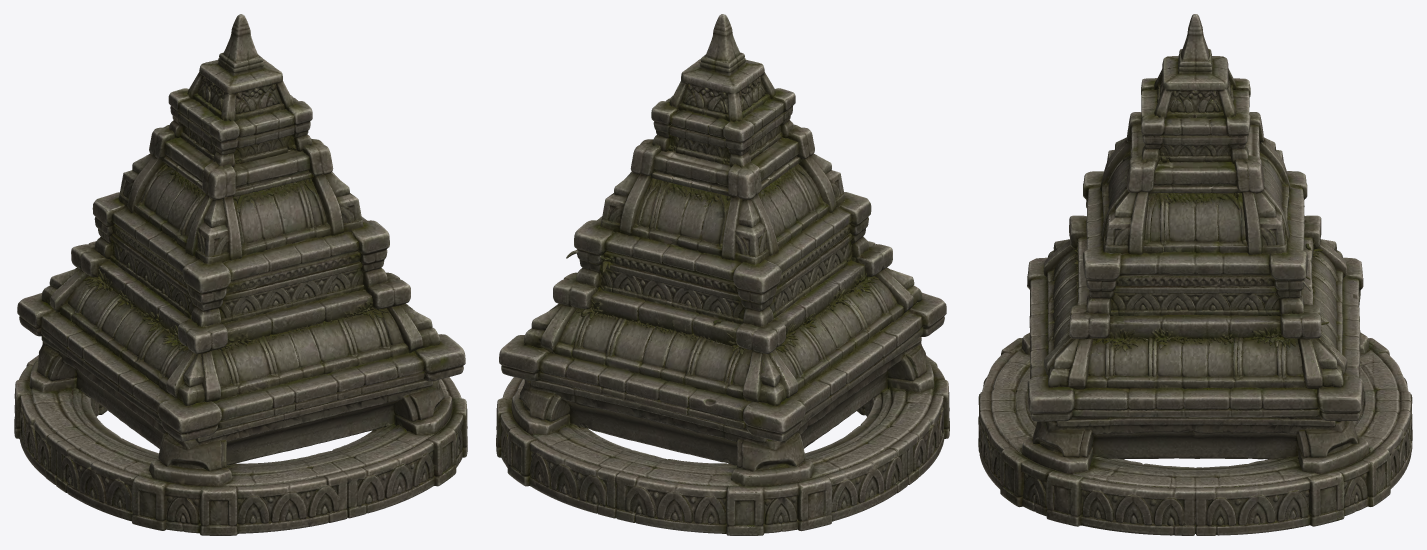
The model's file is Meshy_AI_model.glb.
The picture shows the model from 3 angles, left to right: view 1: azimuth 30°, elevation 25°; view 2: azimuth 150°, elevation 25°; view 3: azimuth 270°, elevation 25°; orthographic projection.
Visible parts, largest first — view 1: mesh_node; view 2: mesh_node; view 3: mesh_node.
Part boxes in pixels (box(x1,y1,x2,y2)): mesh_node: box(14, 14, 467, 535); mesh_node: box(496, 14, 949, 535); mesh_node: box(978, 14, 1412, 535).
Size of the model in its own units: 1.74 by 1.9 by 1.74.
1 material, 1 textured.
